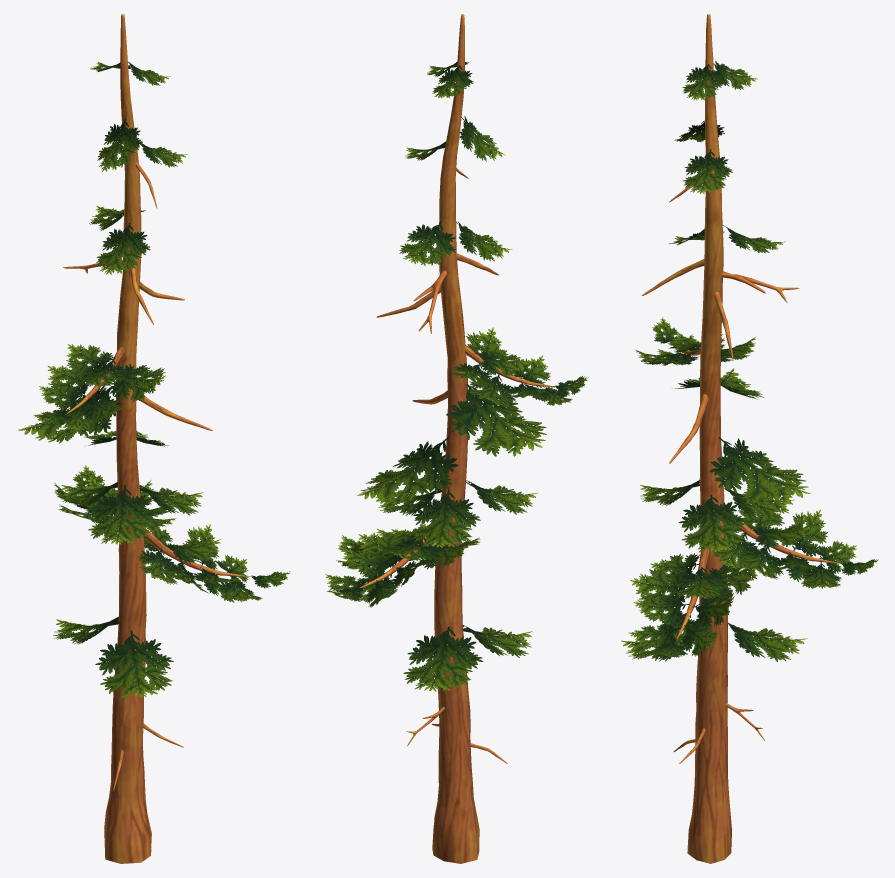
File: pine_var4.glb
3 renders of one model, left to right at view 1: azimuth 30°, elevation 25°; view 2: azimuth 150°, elevation 25°; view 3: azimuth 270°, elevation 25°, orthographic.
Parts seen in each view (by area): view 1: stylized_pine_var4_m_leaves_0, stylized_pine_var4_m_trunk_0; view 2: stylized_pine_var4_m_leaves_0, stylized_pine_var4_m_trunk_0; view 3: stylized_pine_var4_m_leaves_0, stylized_pine_var4_m_trunk_0.
Boxes of the visible parts, bbox=[...] form: stylized_pine_var4_m_leaves_0: bbox=[18, 61, 290, 697]; stylized_pine_var4_m_trunk_0: bbox=[63, 14, 247, 863]; stylized_pine_var4_m_leaves_0: bbox=[325, 62, 588, 691]; stylized_pine_var4_m_trunk_0: bbox=[360, 14, 555, 863]; stylized_pine_var4_m_leaves_0: bbox=[621, 61, 878, 661]; stylized_pine_var4_m_trunk_0: bbox=[642, 14, 839, 863].
Bounding box in the file's own units: 3.78 × 12.2 × 3.47.
2 materials, 2 textured.
